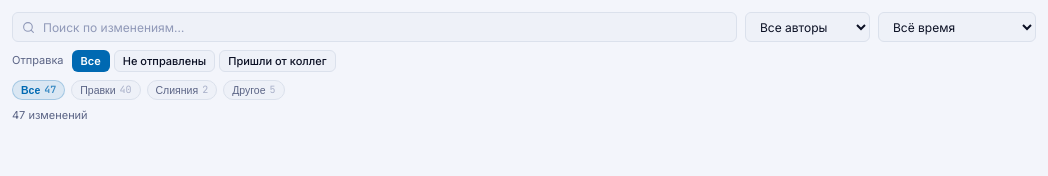
Test: VcsHistoryFilters › opens the date inputs for a custom range
Select "Свой диапазон…" in the dropdown named "Период": (957, 27) top-left (878, 12), bottom-right (1036, 42)
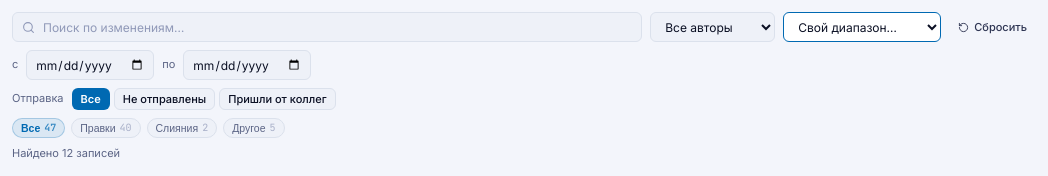
expect the date field named "Начало периода" is shown: met, box top-left (26, 50), bottom-right (154, 80)
expect the date field named "Конец периода" is shown: met, box top-left (183, 50), bottom-right (311, 80)
